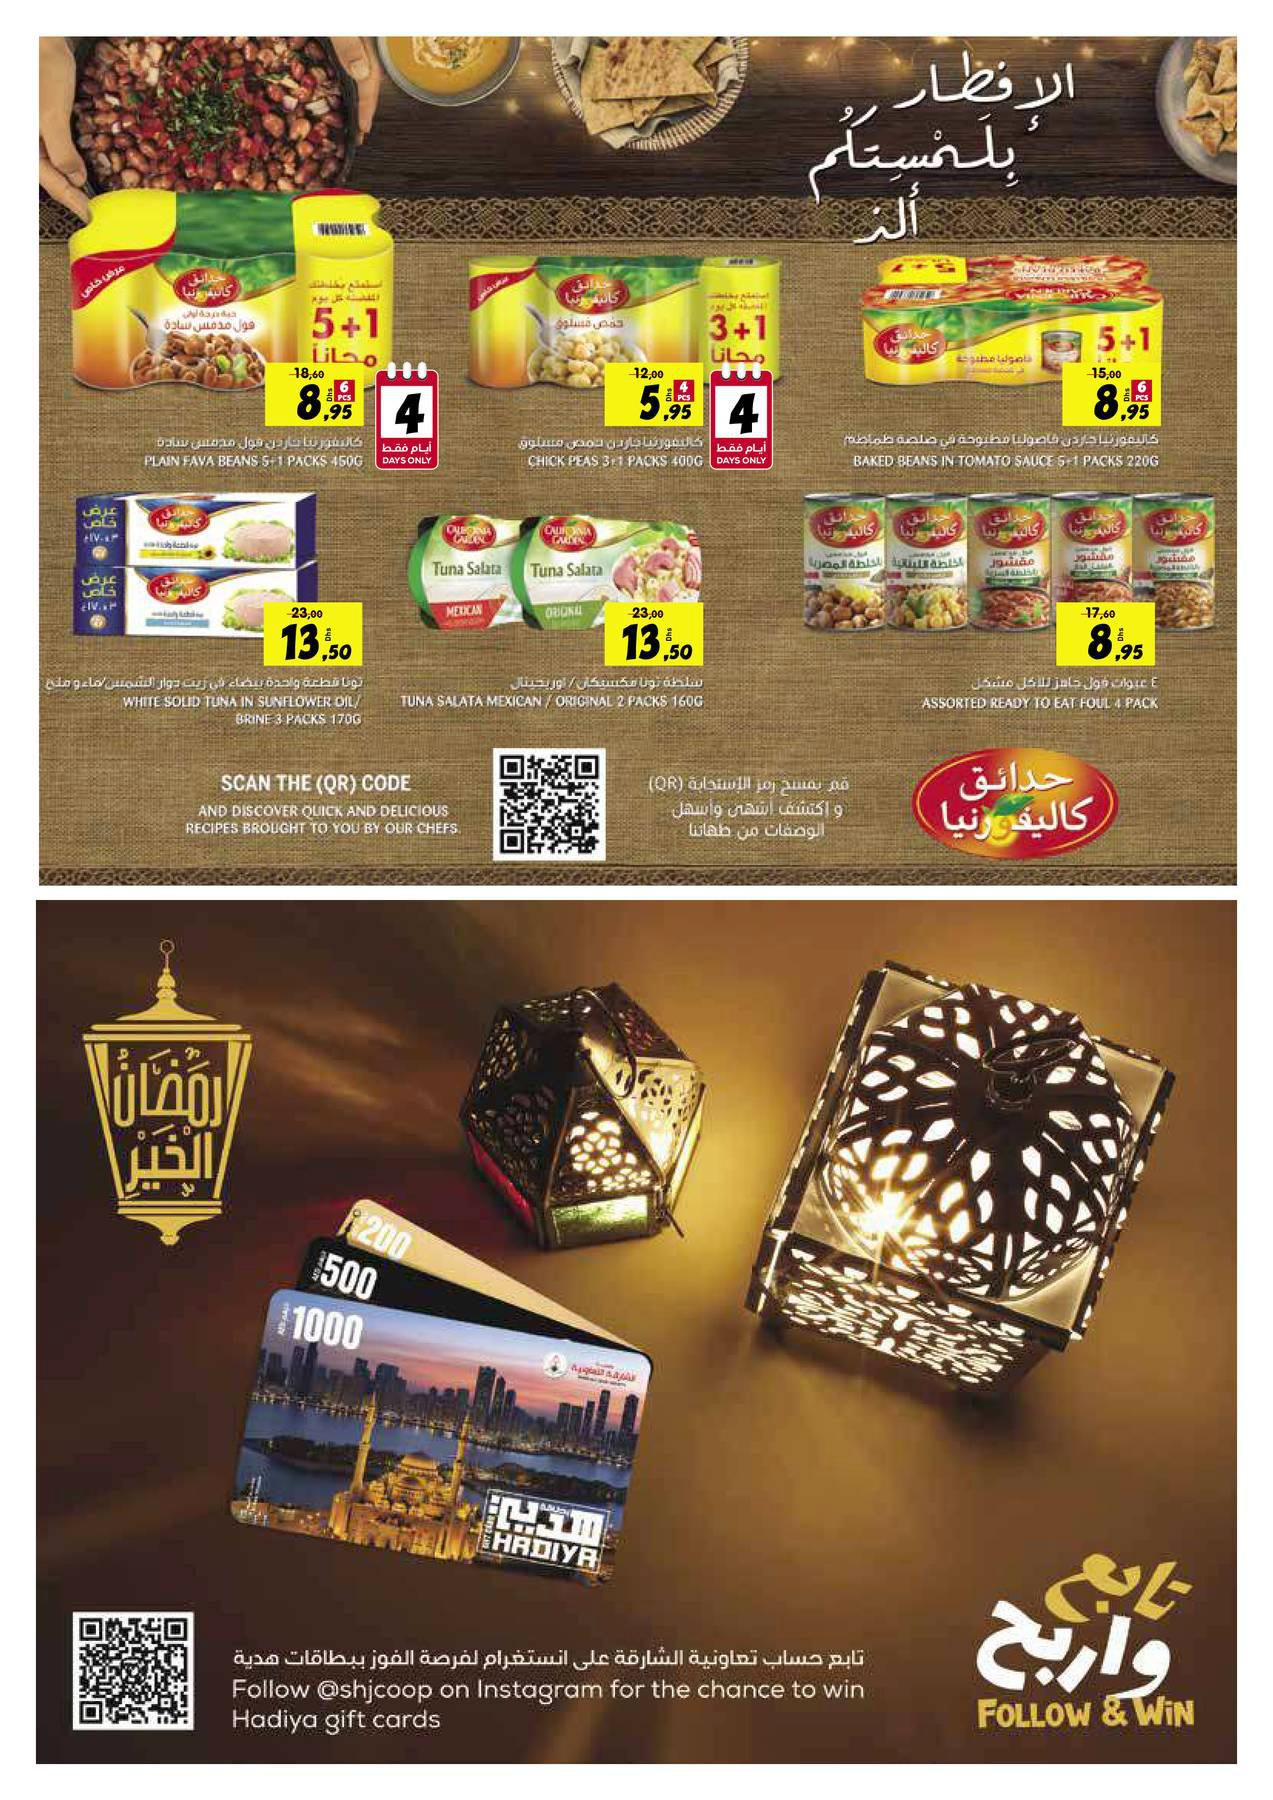text: (840, 450, 1171, 474), (840, 427, 1167, 450), (510, 432, 708, 454), (524, 450, 710, 472), (145, 432, 372, 450)
